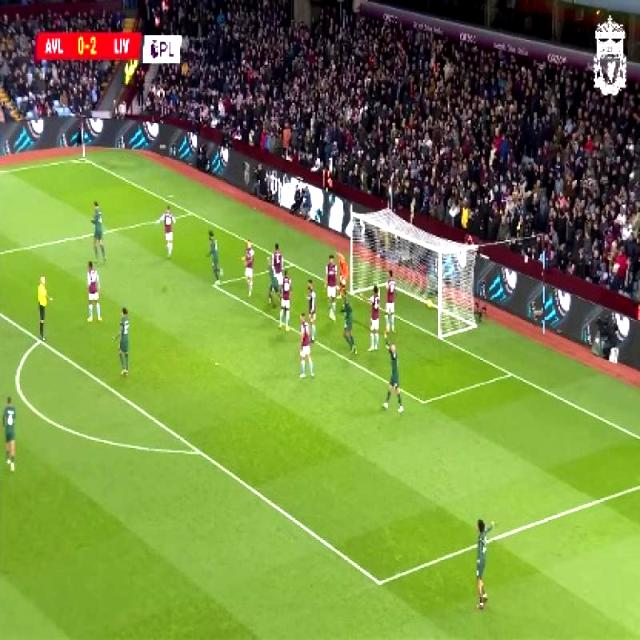bigarea_bottom_inner: (368, 564, 392, 598)
bigarea_top_outter: (184, 203, 198, 222)
bottom_arc_area_intersection: (188, 437, 209, 465)
corner: (72, 150, 92, 165)
smallarea_bottom_inner: (414, 388, 432, 414)
smallarea_bottom_outter: (502, 362, 520, 383)
smallarea_top_inner: (206, 274, 222, 294)
smallarea_top_outter: (285, 254, 300, 272)
top_arc_area_intersection: (29, 330, 48, 352)
